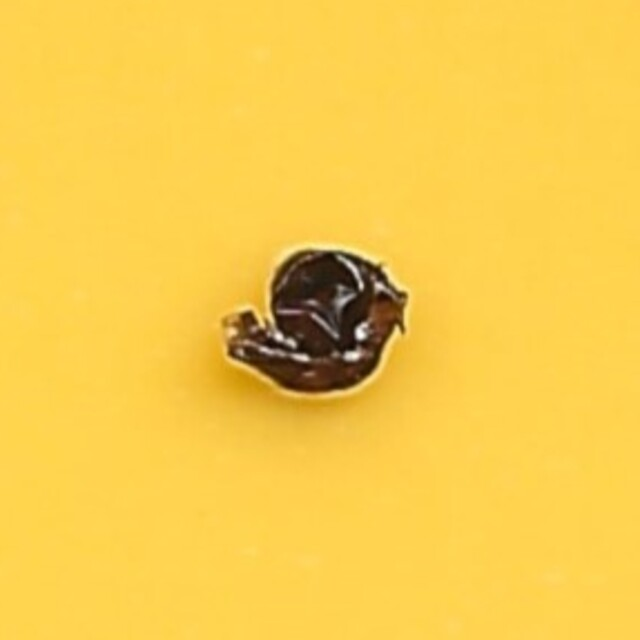Coleoptera: (223, 241, 417, 399)
